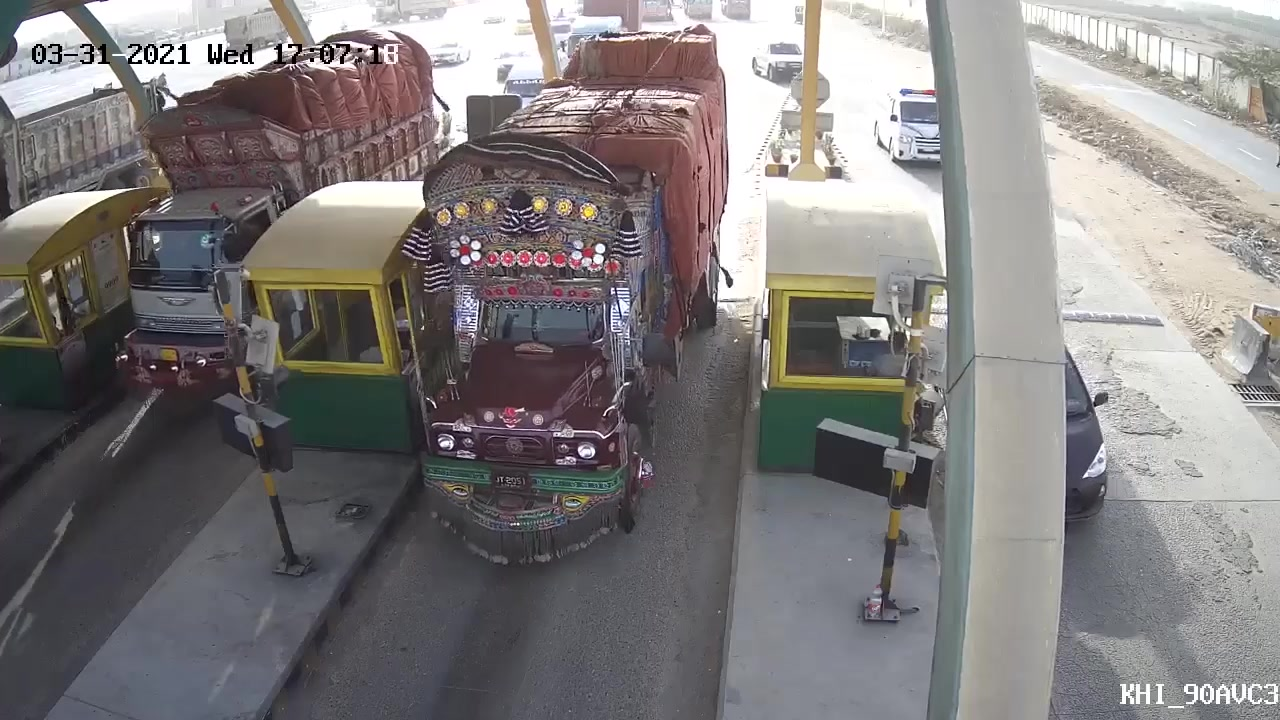F5: (408, 27, 738, 559)
